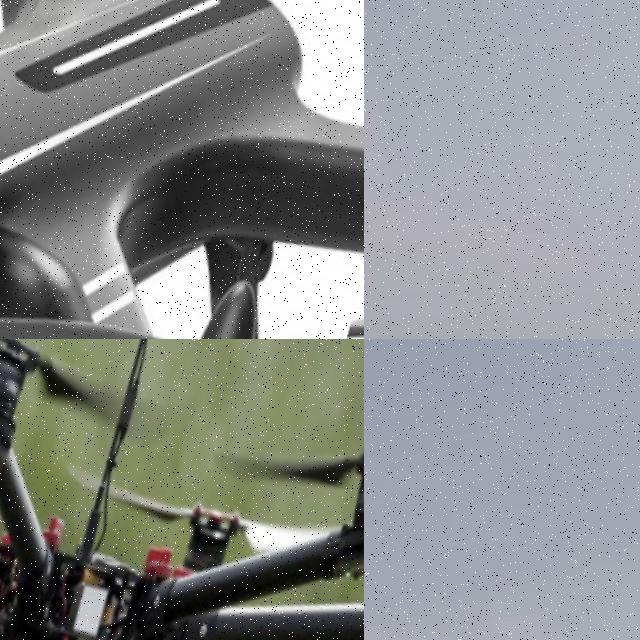drone: (0, 0, 364, 339), (0, 339, 364, 640)
